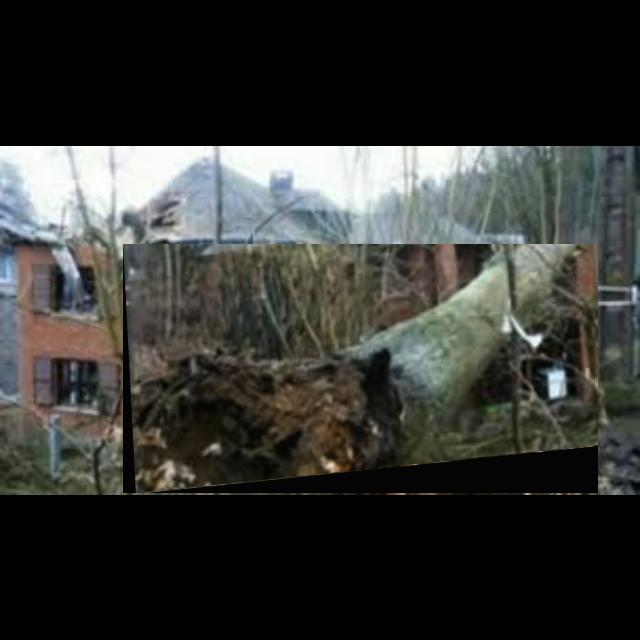fallen_tree: (123, 244, 599, 494)
